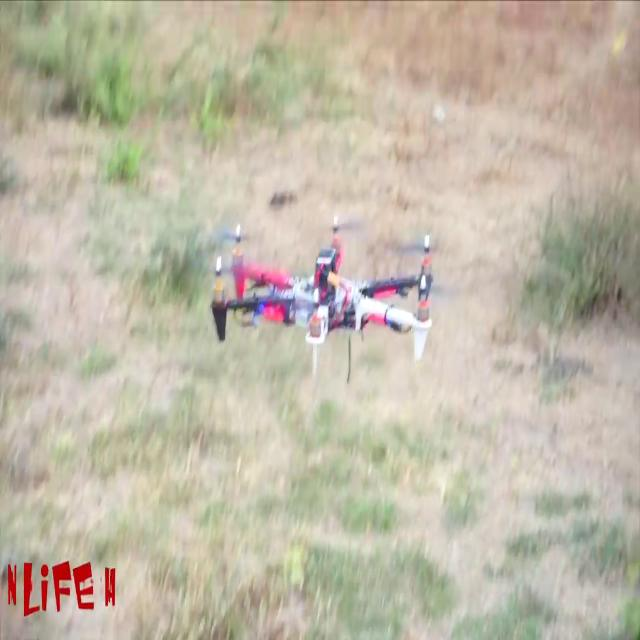drone: (177, 202, 474, 390)
